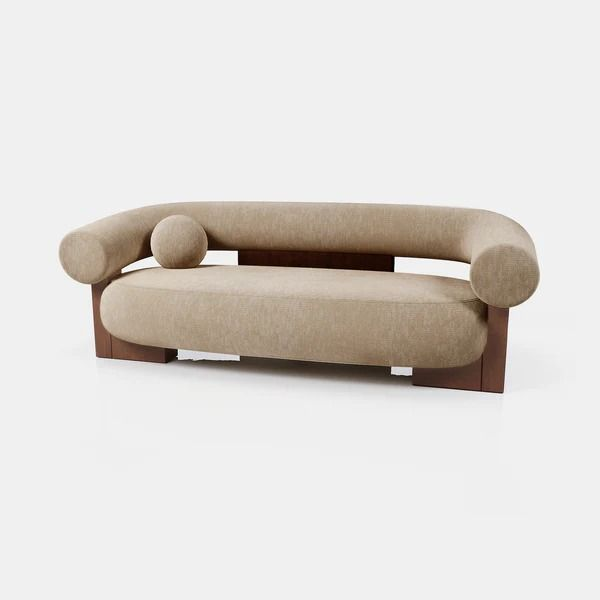3seatersofa: (60, 202, 539, 391)
backrest: (164, 201, 491, 271)
leftarmrest: (466, 210, 539, 309)
leg: (413, 306, 508, 392), (93, 284, 176, 363)
pillow: (152, 217, 207, 267)
rightarmrest: (60, 203, 173, 286)
seat: (102, 265, 486, 367)
